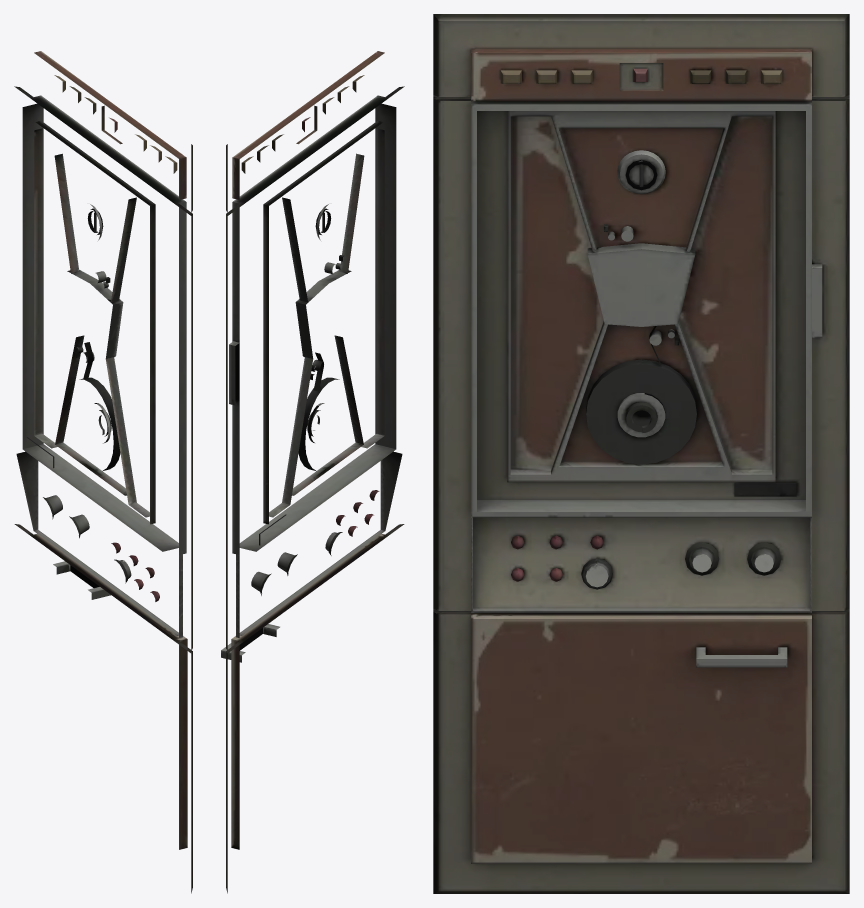
3 renders of one model, left to right at view 1: azimuth 30°, elevation 25°; view 2: azimuth 150°, elevation 25°; view 3: azimuth 270°, elevation 25°, orthographic. The views are drawn at different scales.
Parts seen in each view (by area): view 1: body0_model0_lod0_mesh0; view 2: body0_model0_lod0_mesh0; view 3: body0_model0_lod0_mesh0.
Part boxes in pixels (x1=…): body0_model0_lod0_mesh0: x1=14, y1=51, x2=192, y2=893; body0_model0_lod0_mesh0: x1=221, y1=51, x2=404, y2=893; body0_model0_lod0_mesh0: x1=433, y1=14, x2=849, y2=893.
Size of the model in its own units: 7.41 by 112 by 47.99.
1 material, 1 textured.
